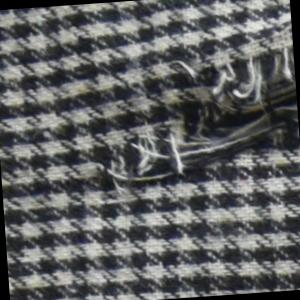Damage: (88, 36, 300, 197)
